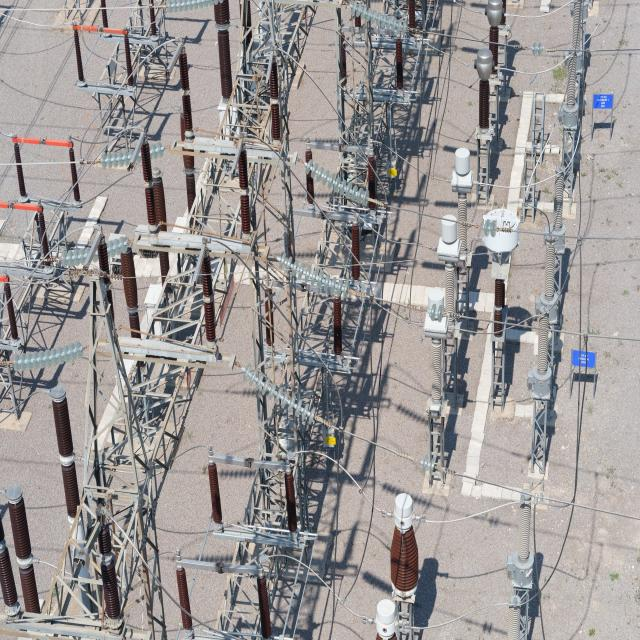direk: (94, 64, 135, 164)
